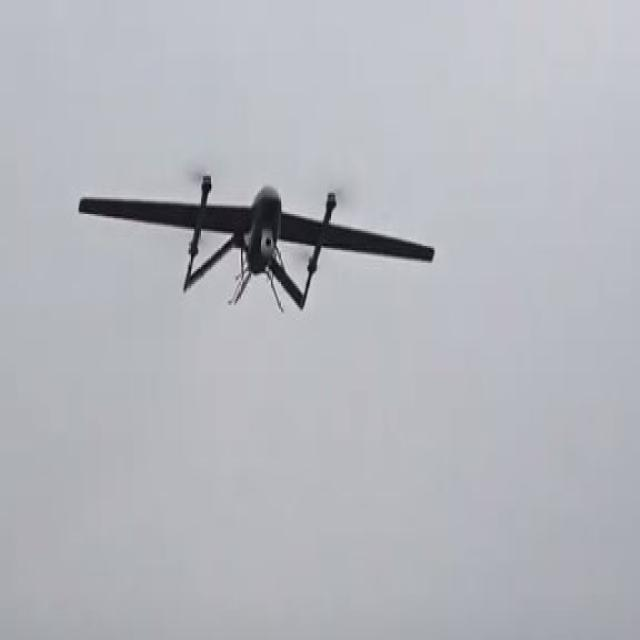iha: (76, 162, 436, 322)
